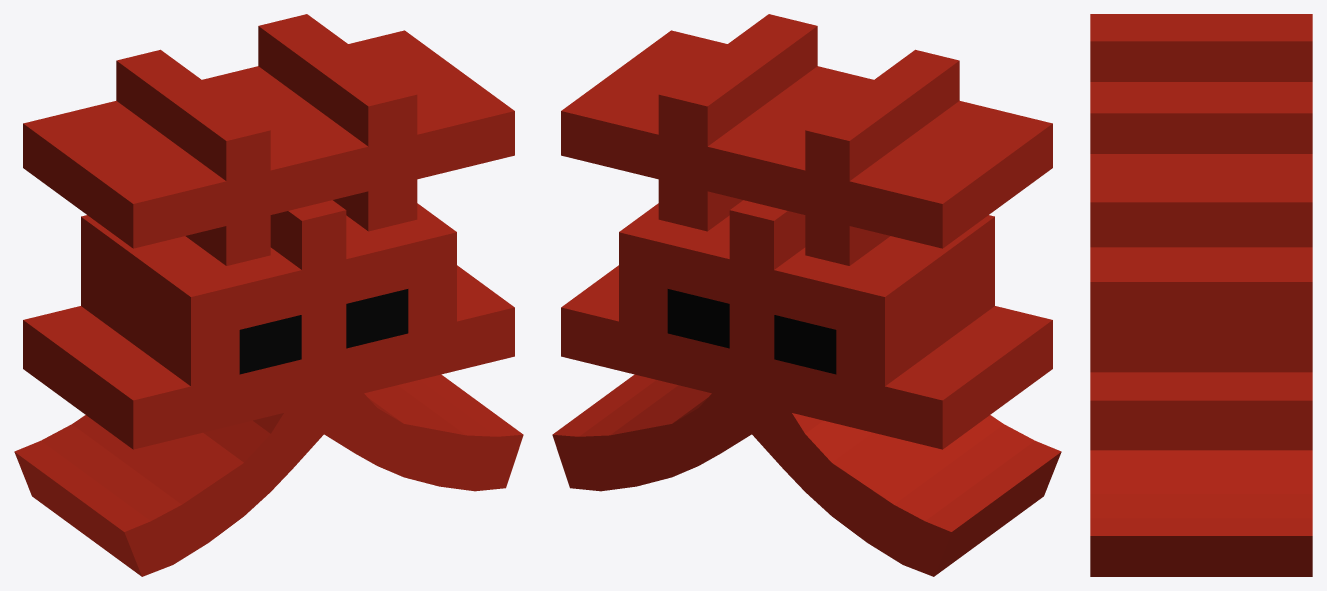
The model's file is ei1.ico.obj.
3 renders of one model, left to right at view 1: azimuth 30°, elevation 25°; view 2: azimuth 150°, elevation 25°; view 3: azimuth 270°, elevation 25°, orthographic.
Size of the model in its own units: 3.04 by 3.02 by 1.45.
1 material, 1 textured.
